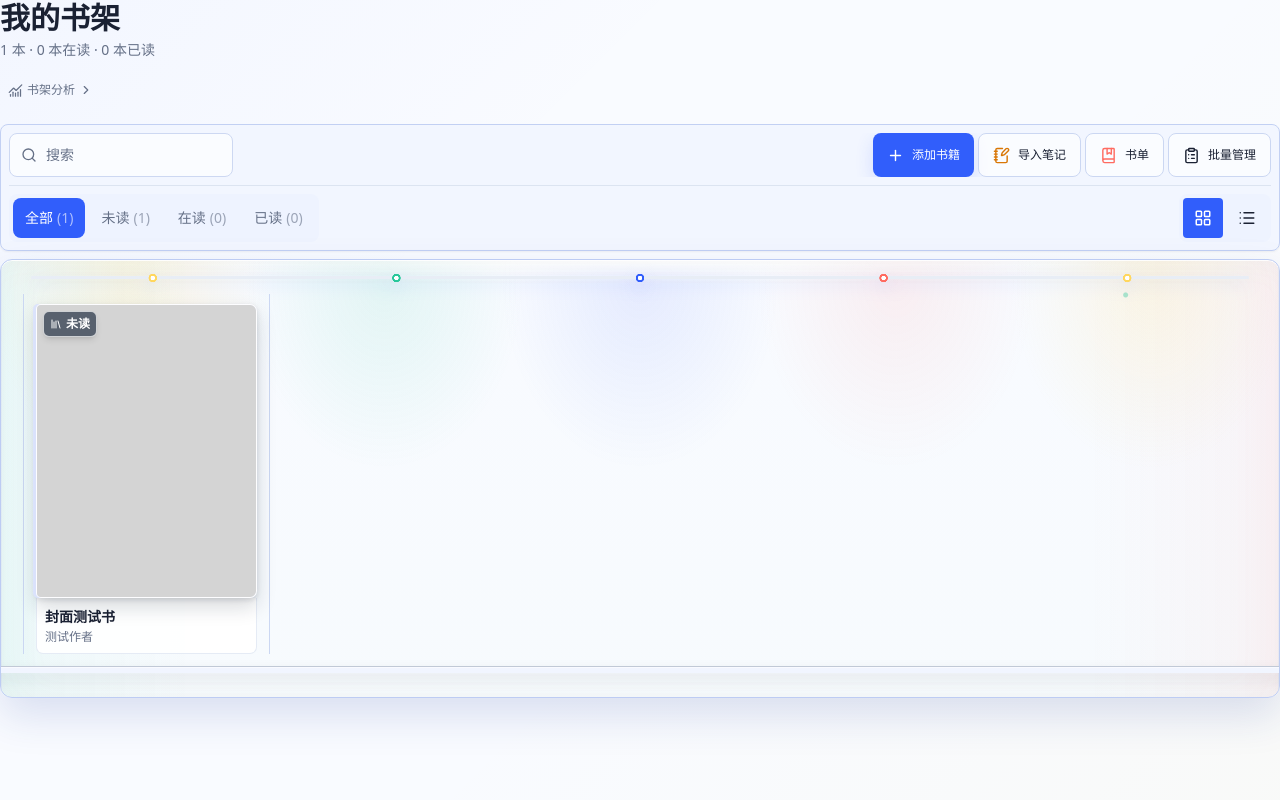
bookshelf cover editing › keeps book-file import inside the single Add Book entry
Click the button with test id "add-book-button" at (923, 155), box [873, 133, 974, 177]
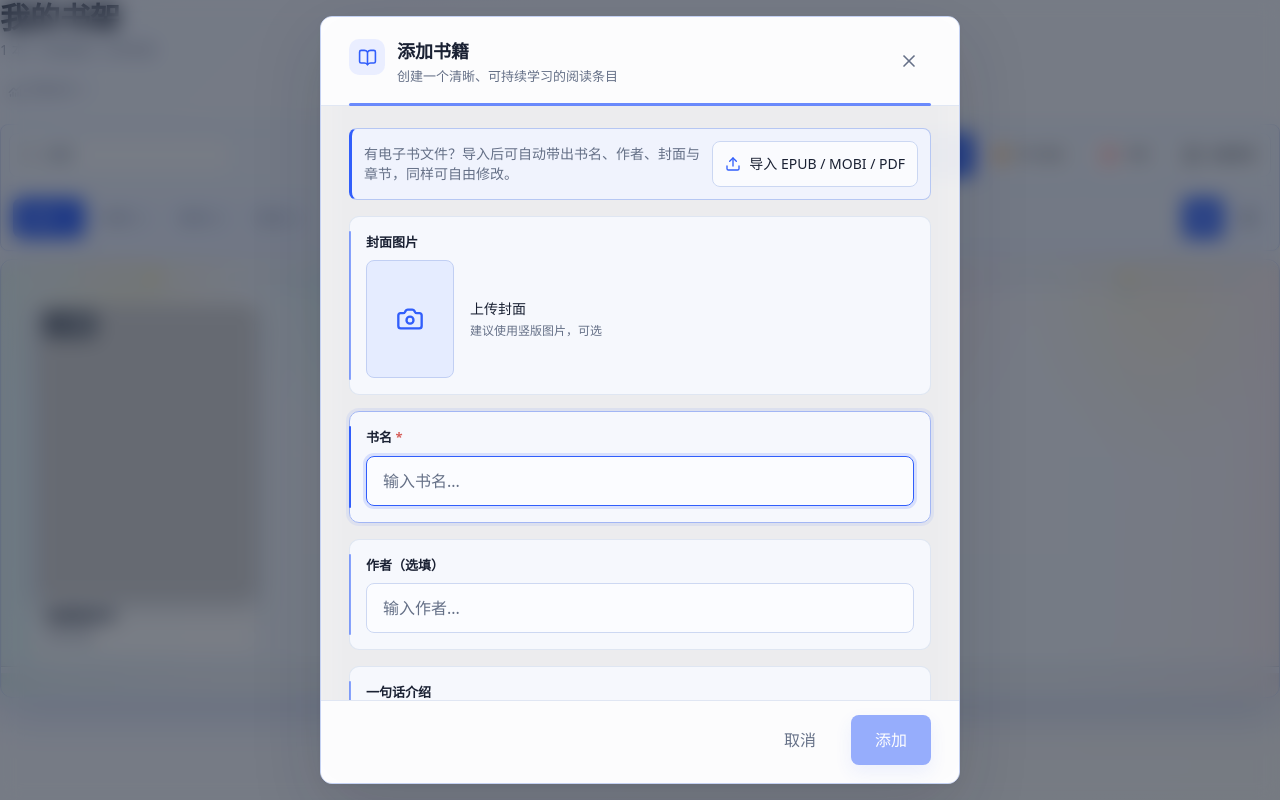
Check: the button "导入 EPUB / MOBI / PDF" is enabled, box [712, 141, 918, 187]
